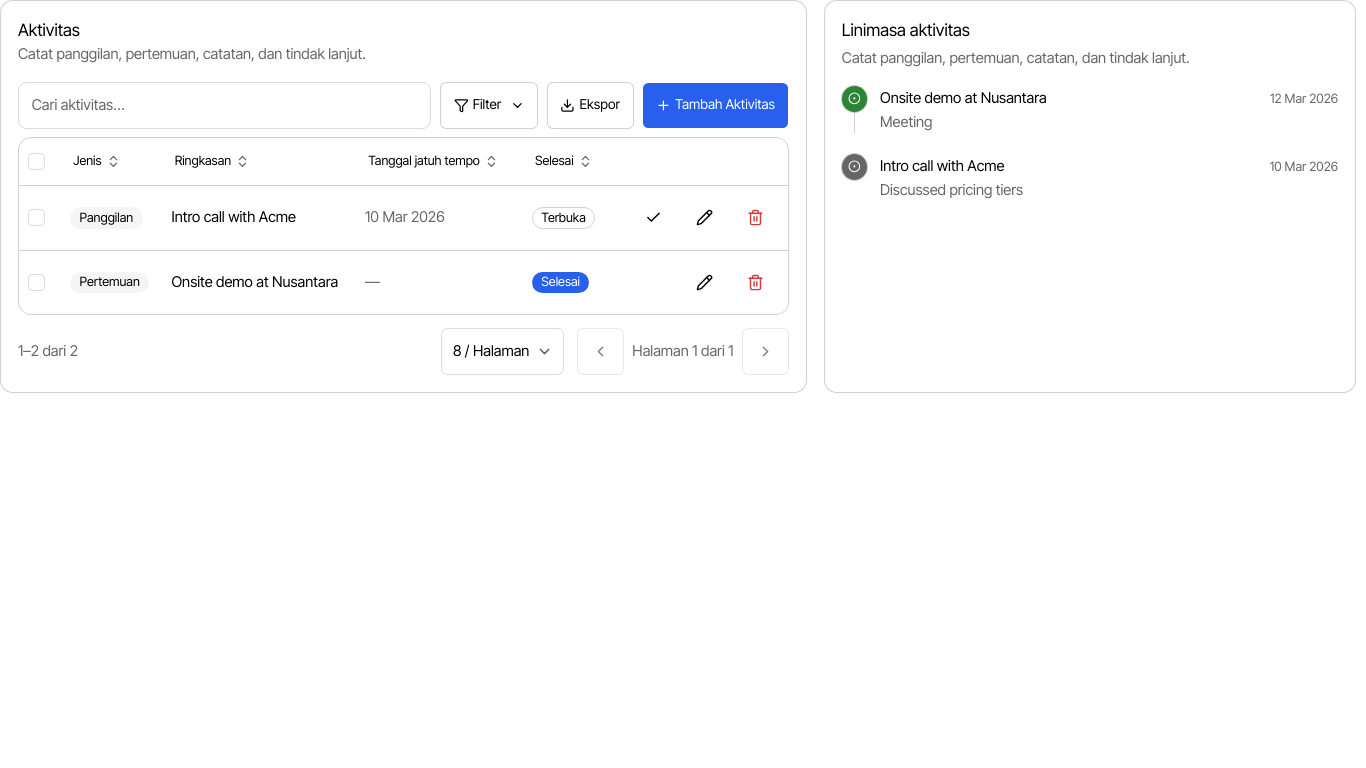
Test: ActivitiesSection remainder › opens the edit dialog prefilled with the activity
Step 1. Click the button named "Ubah aktivitas" next to "Terbuka" → [705, 218], box [682, 194, 728, 241]
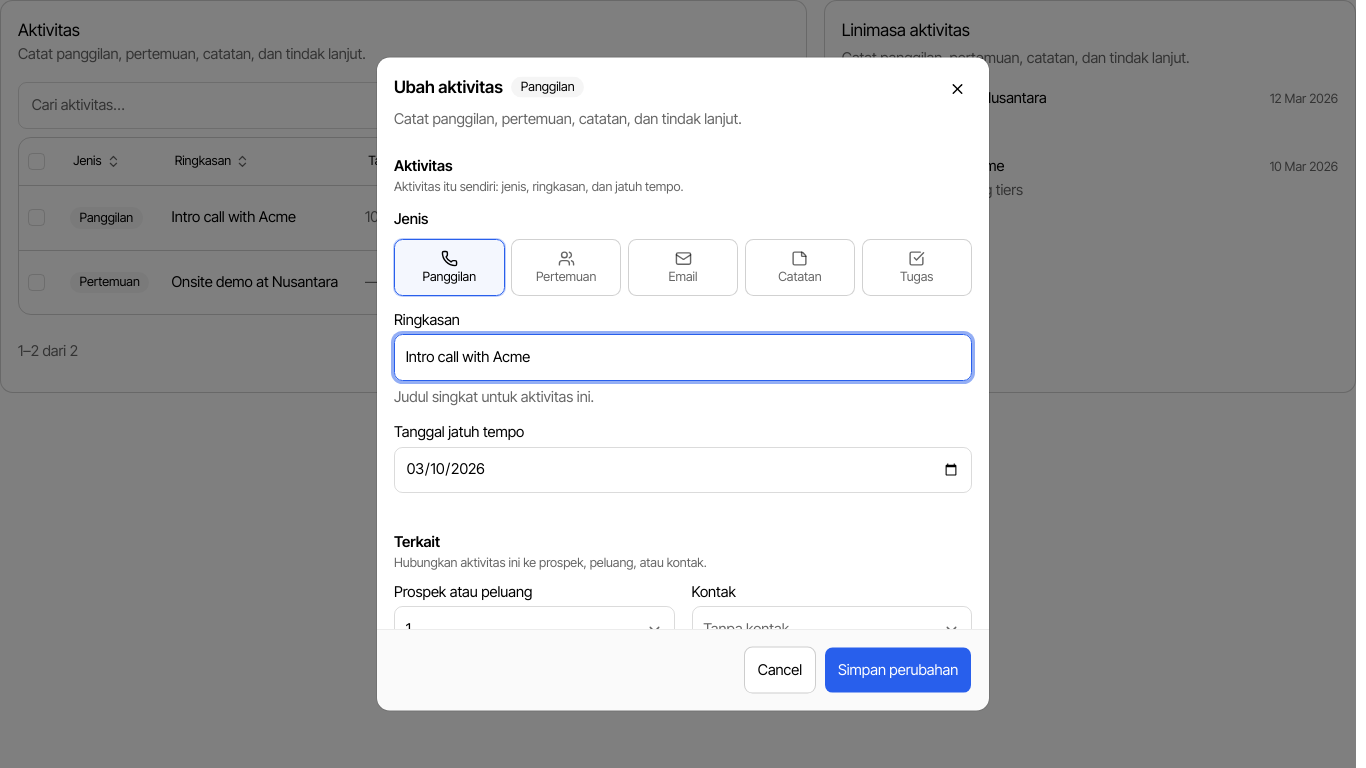
Check: the dialog is shown, box [377, 58, 989, 710]
